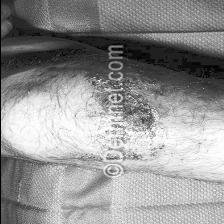Toxin: (80, 74, 164, 164)
